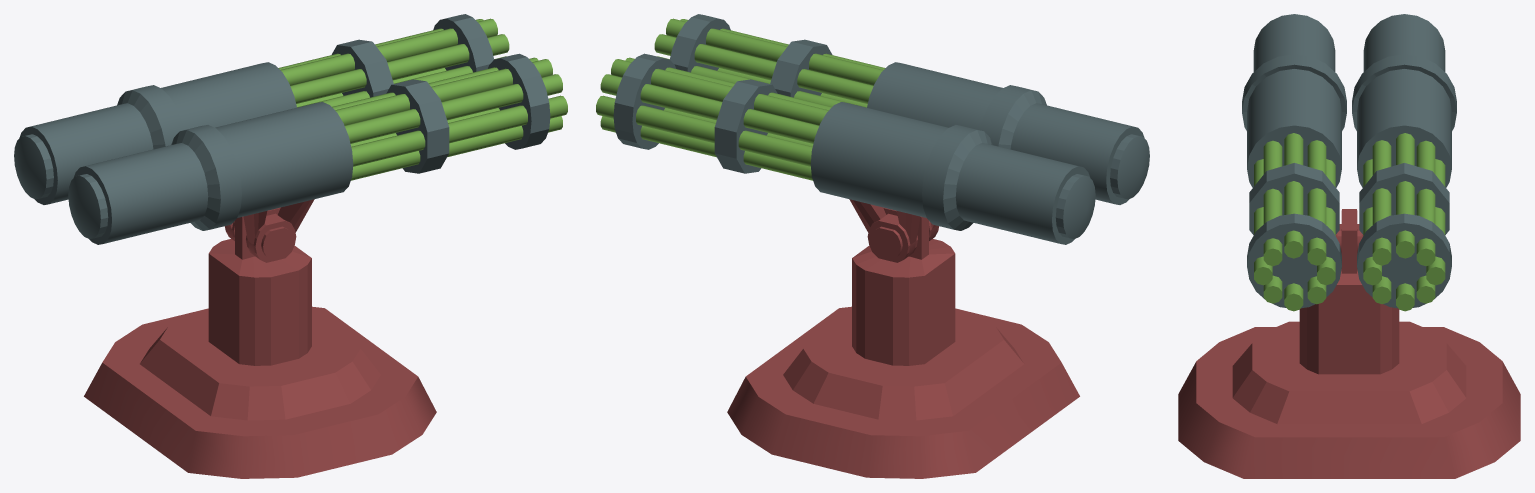
Rendered from MachineGun_Turret_Low.fbx.
The picture shows the model from 3 angles, left to right: view 1: azimuth 30°, elevation 25°; view 2: azimuth 150°, elevation 25°; view 3: azimuth 270°, elevation 25°; orthographic projection.
Visible parts, largest first — view 1: pCylinder12; view 2: pCylinder12; view 3: pCylinder12.
Boxes of the visible parts, x1,y1,x2,y2 form: pCylinder12: (14, 14, 567, 478); pCylinder12: (596, 14, 1149, 478); pCylinder12: (1178, 14, 1520, 478).
Bounding box in the file's own units: 116 × 73.7 × 72.
